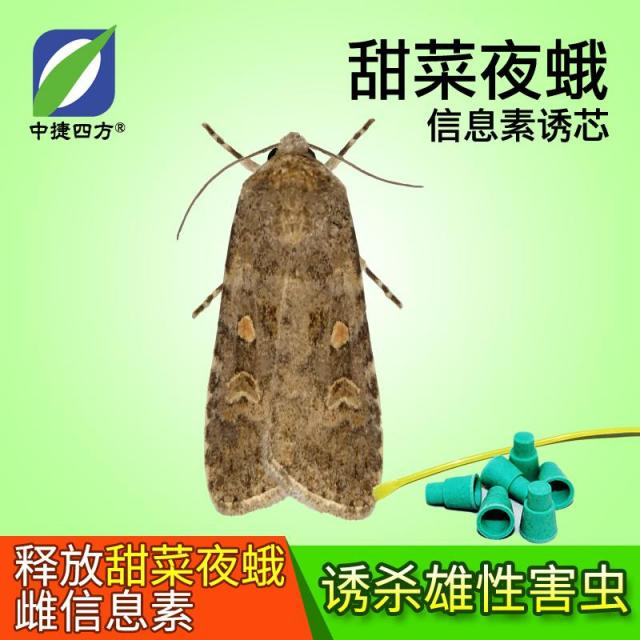BeetArmyWorm-Adult-: (169, 112, 412, 520)
